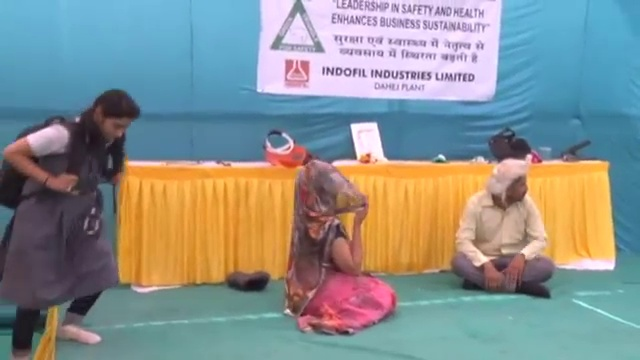helmet_off: (293, 163, 363, 218), (87, 88, 140, 147), (490, 159, 531, 204)
person: (1, 86, 148, 359), (287, 159, 400, 337), (450, 155, 558, 299)
